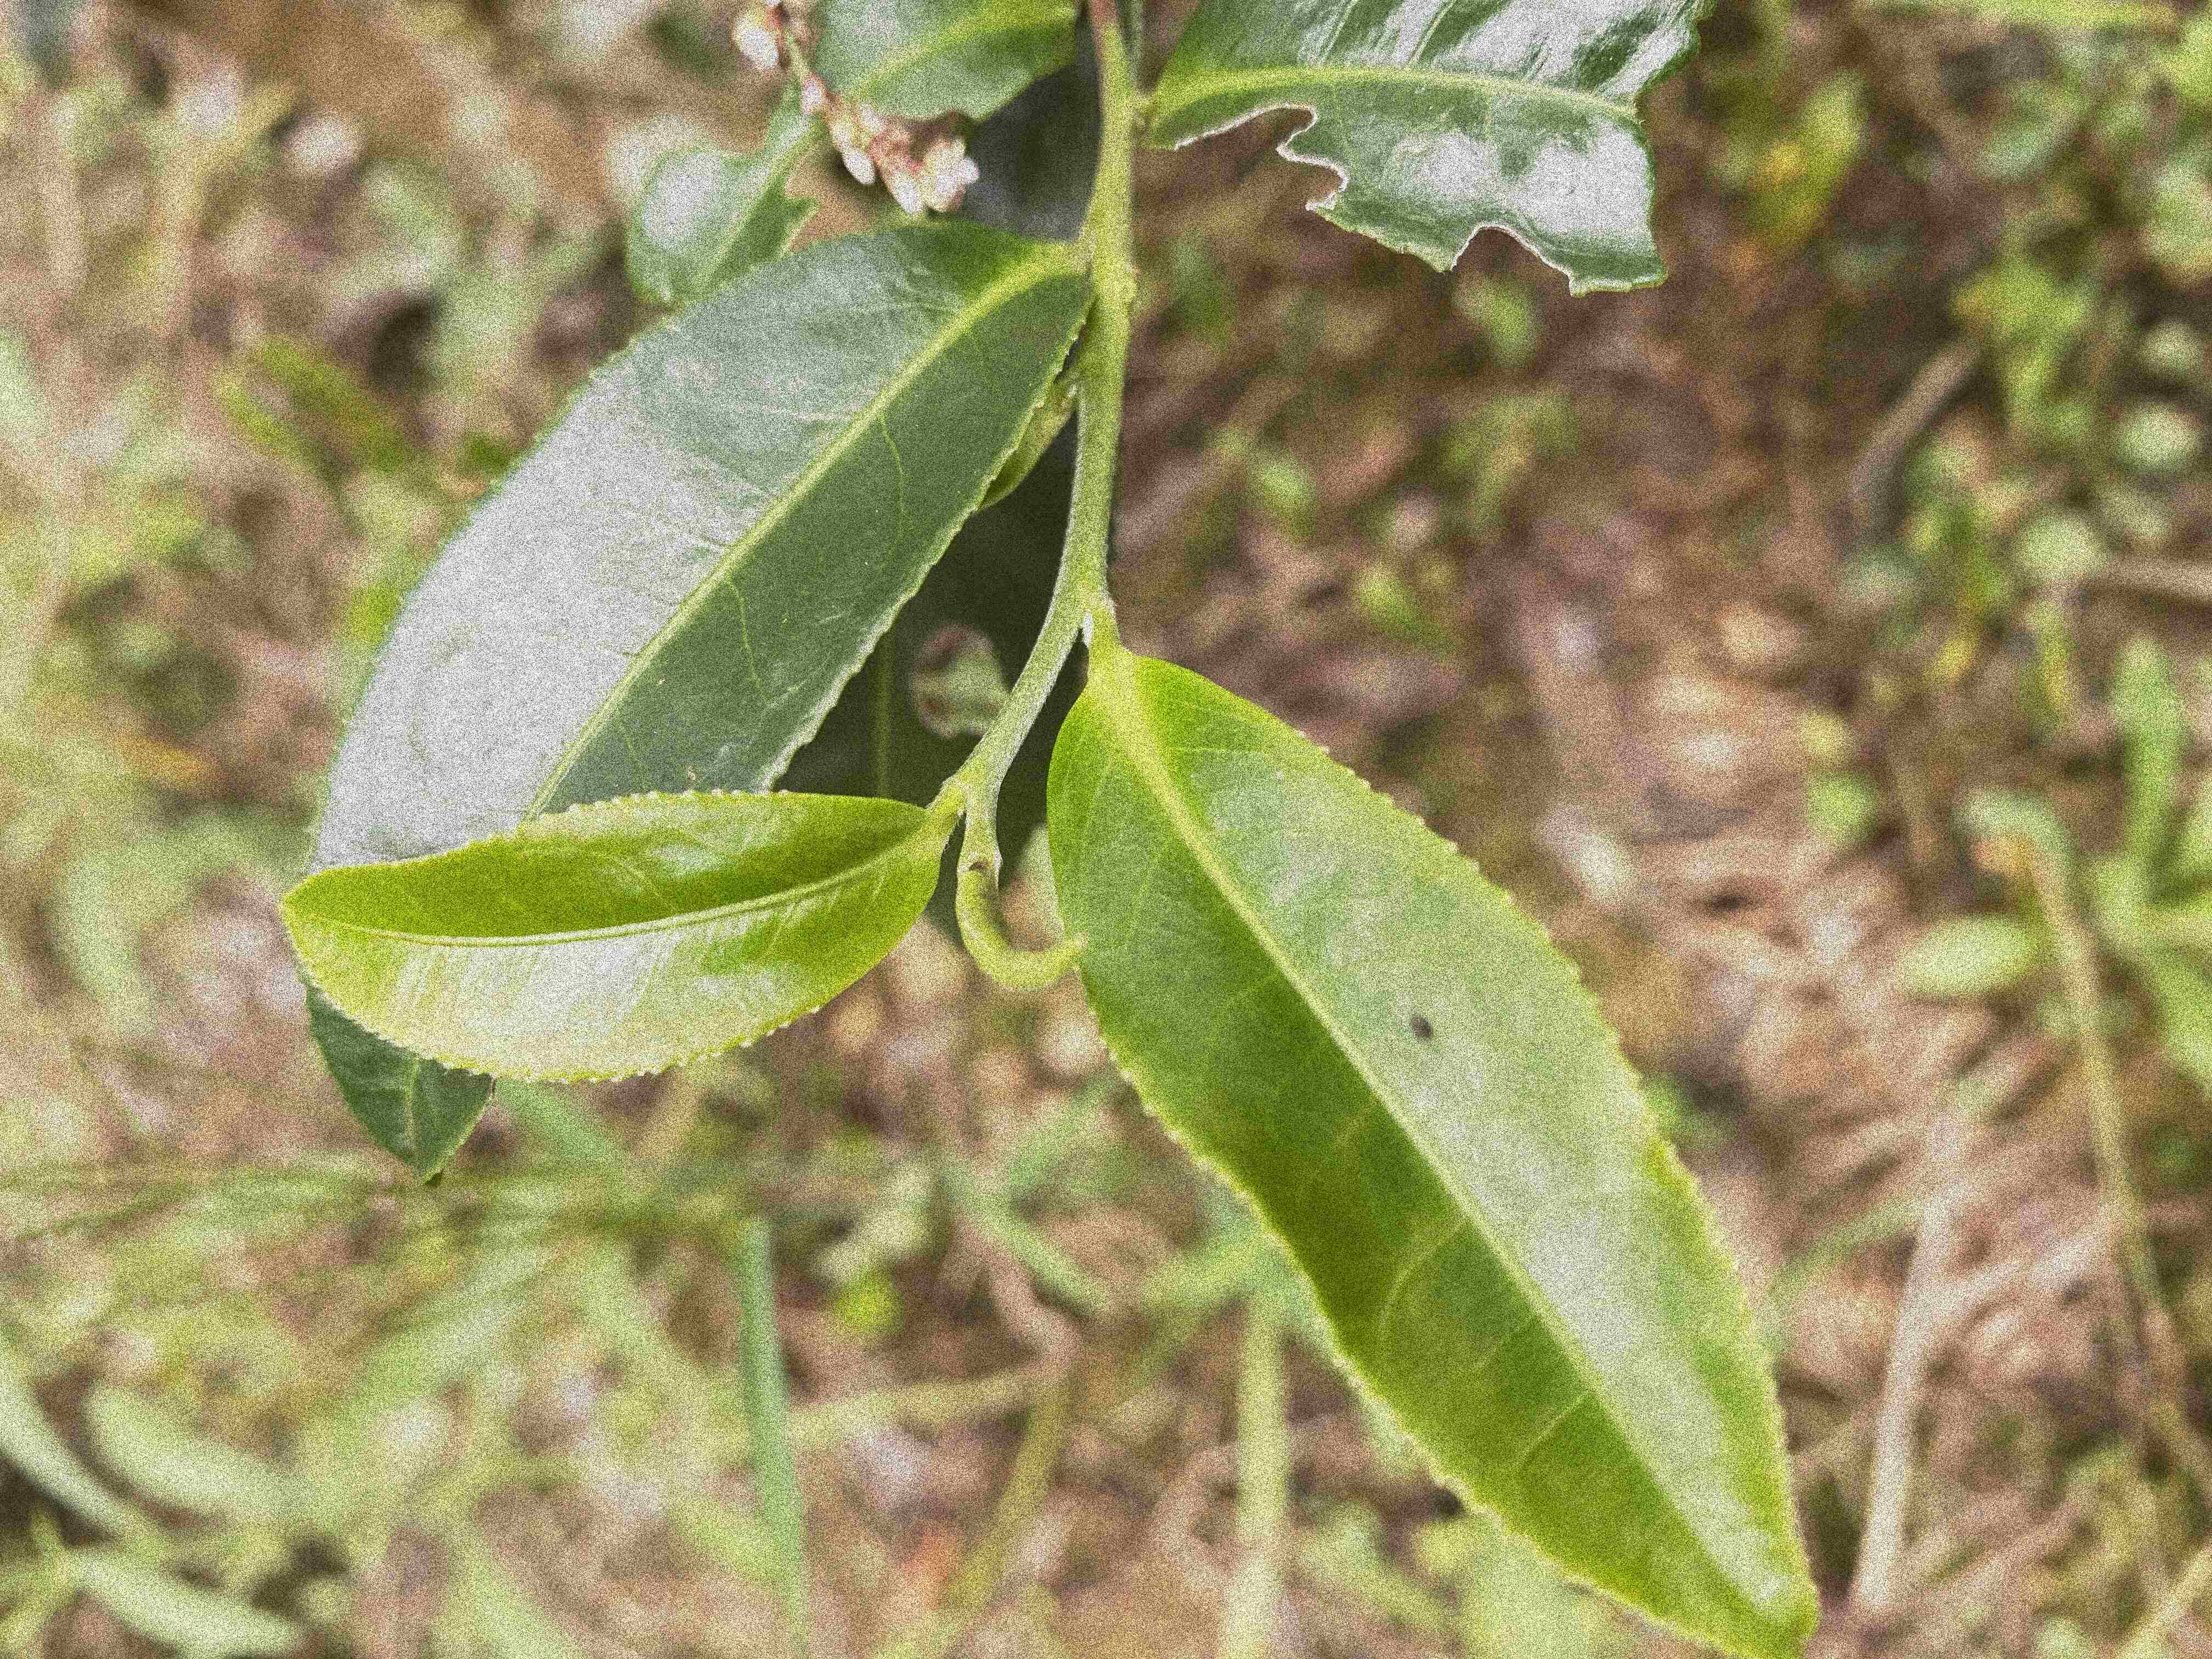chihuo_high: (1148, 2, 1721, 298), (622, 3, 1075, 310)
healthy: (296, 214, 1090, 1187), (275, 793, 942, 1087)
tanju_low: (1043, 645, 1822, 1657)
